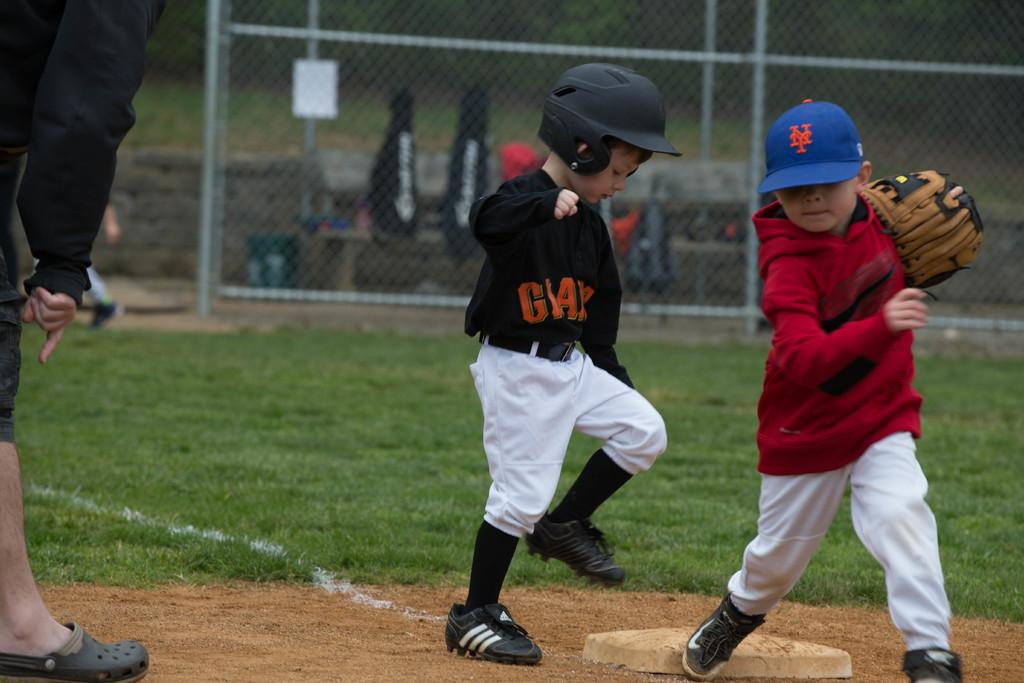Hat: (758, 98, 866, 199)
